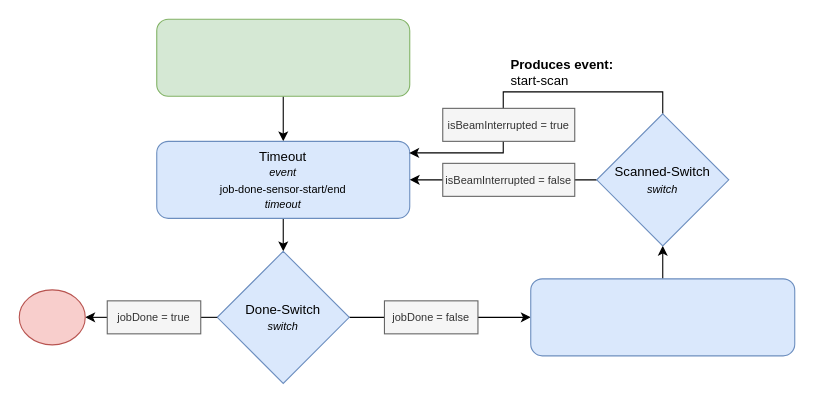
The diagram is 814 pixels wide and 403 high, and some of its shapes have lost their labels. The box of each missing label's shape, as (x1, y1, x2, y2) in pixels:
END: (18, 289, 85, 345)
Scanning operation isBeamInterruped = invoke service-beam-detection: (530, 278, 795, 356)
Starting inject isBeamInterrupted = false, jobDone = false: (156, 18, 410, 96)
